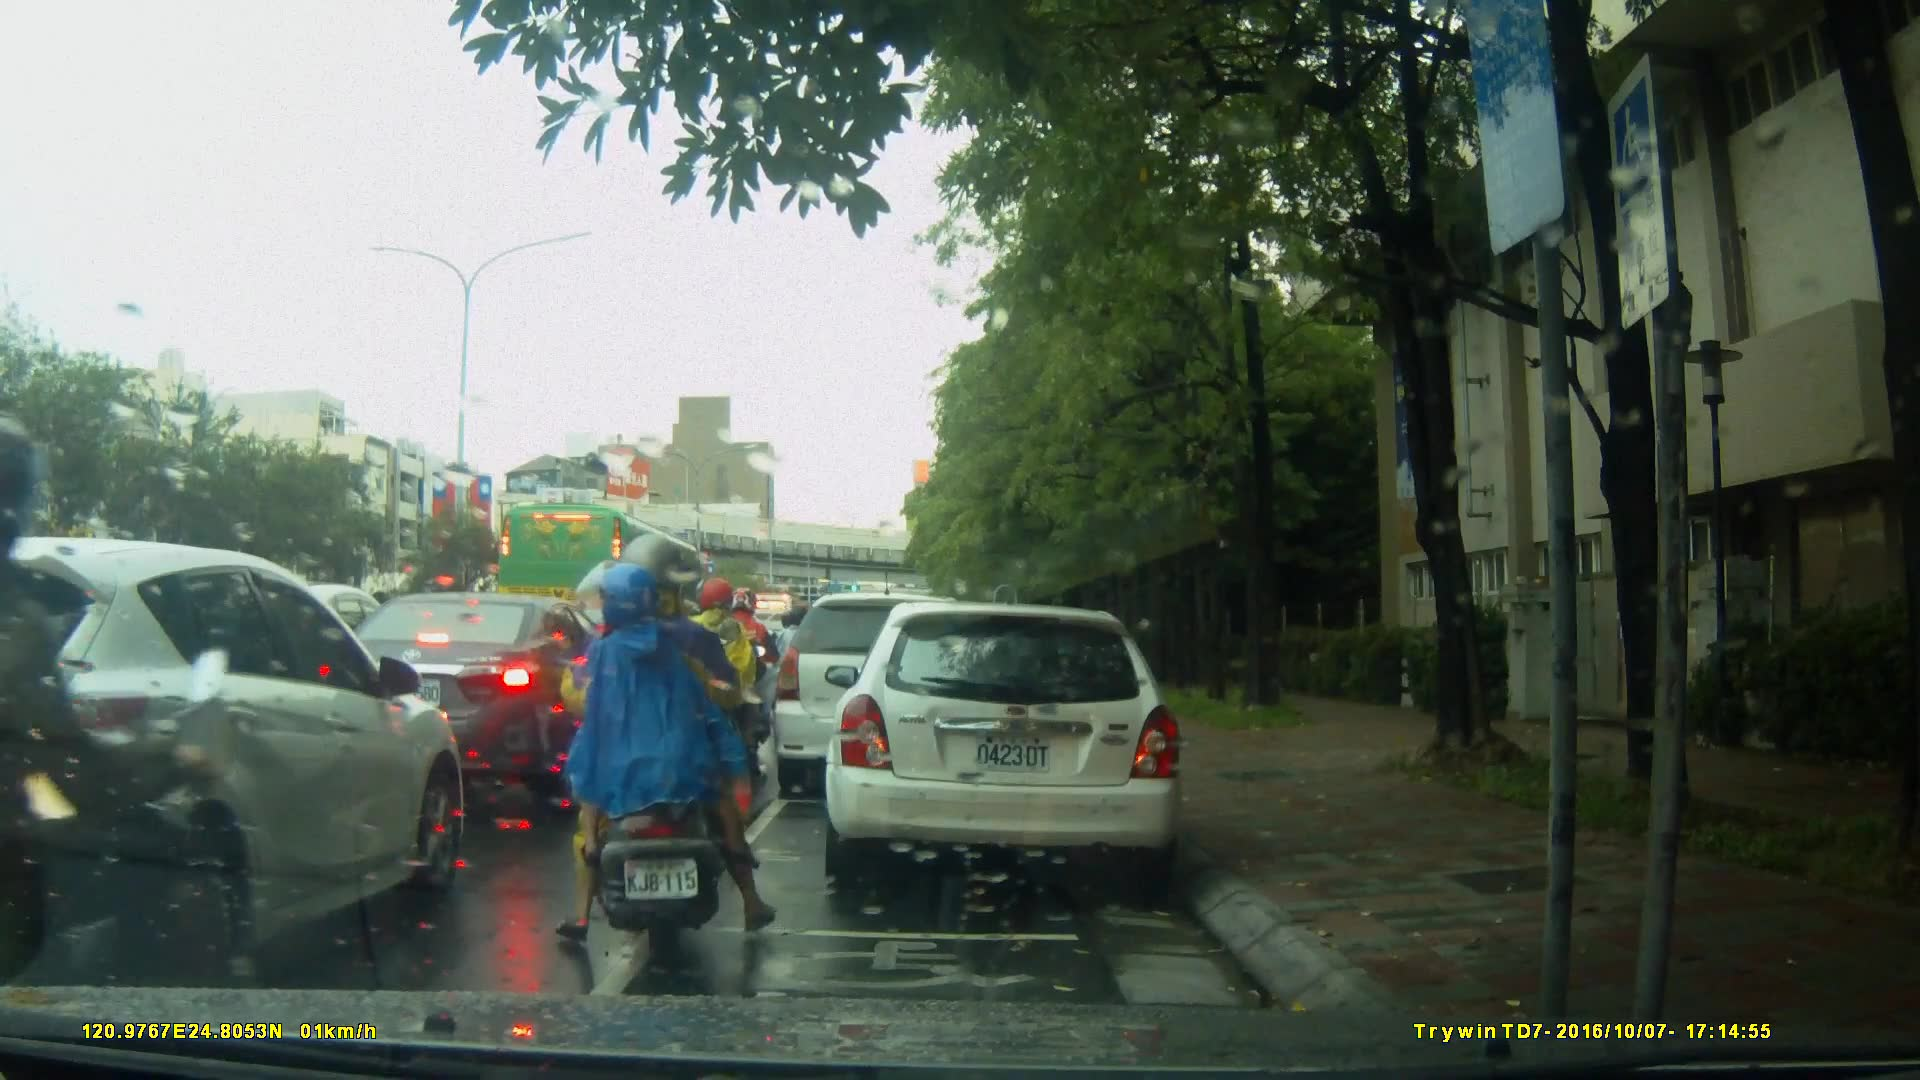rider: (1, 432, 268, 1080), (530, 529, 789, 957), (682, 575, 766, 804), (721, 592, 778, 748), (777, 598, 821, 723)
vehicle: (5, 535, 470, 988), (831, 592, 1196, 897), (314, 589, 629, 776), (770, 590, 999, 804), (499, 503, 713, 636)
